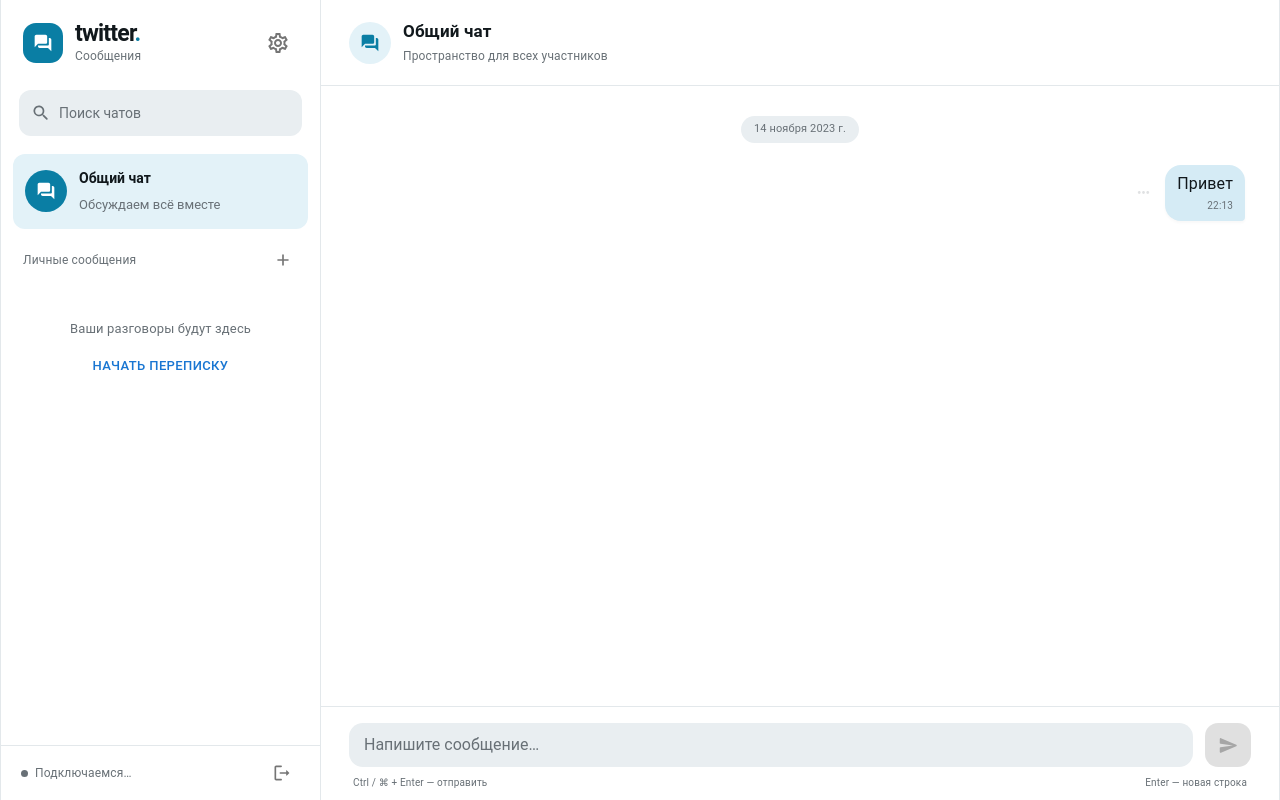
Scenario: deletes a private chat only after confirming in its menu
Expected: the text "Привет" is shown, [1177,172,1233,196]
Click the button named "Новый чат" at (283, 260), box [268,244,298,274]
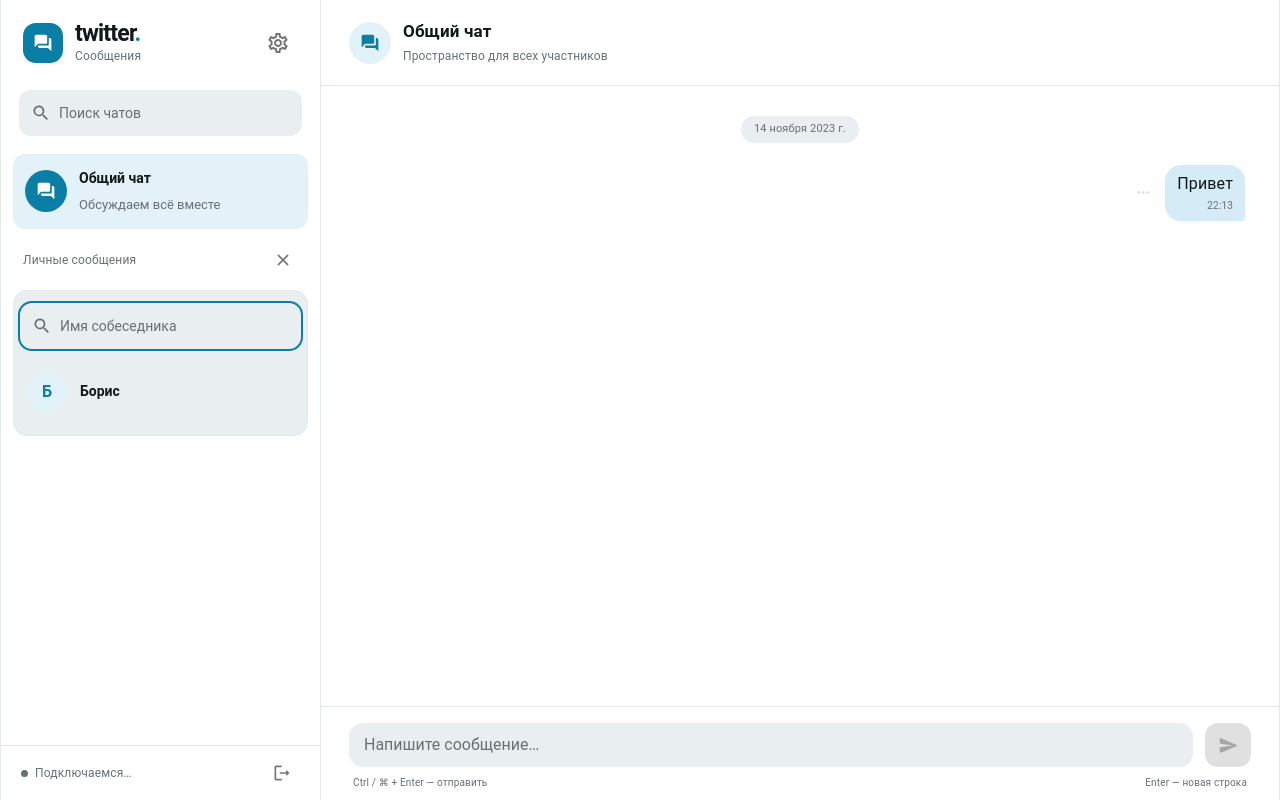
Click the button "Б Борис" at (47, 392), box [14,356,307,426]
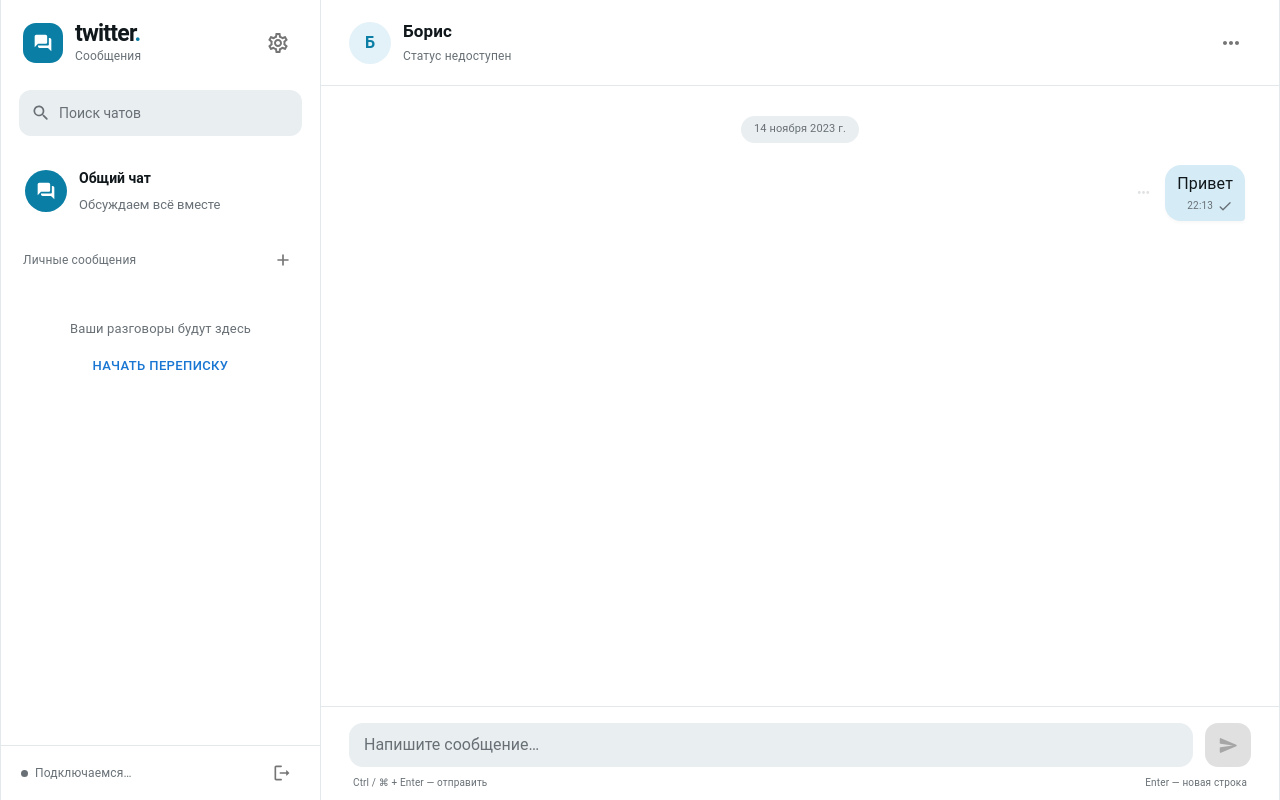
Result: the heading "Борис" is shown at [403,21,452,41]
Click the button named "Действия с чатом" at (1231, 42), box [1211,22,1251,62]
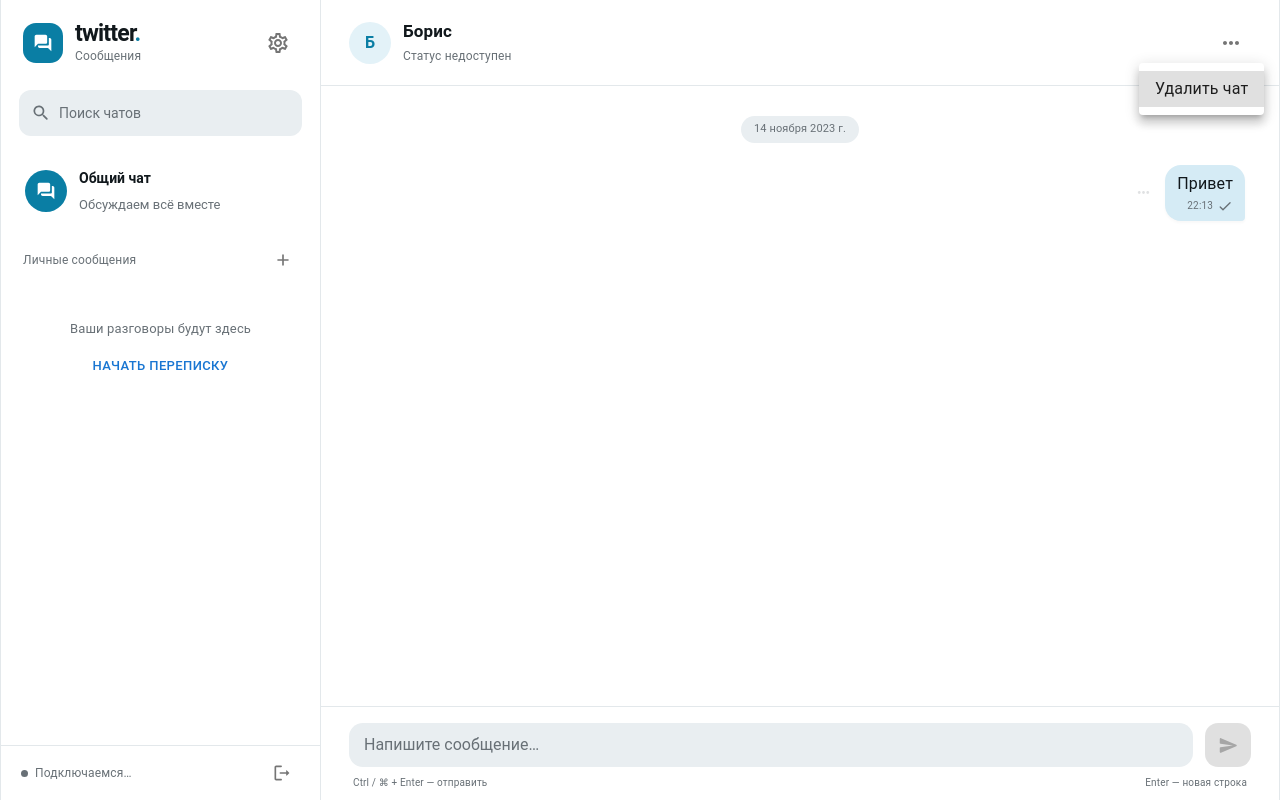
Click the menu item "Удалить чат" at (1202, 89), box [1139,71,1264,107]
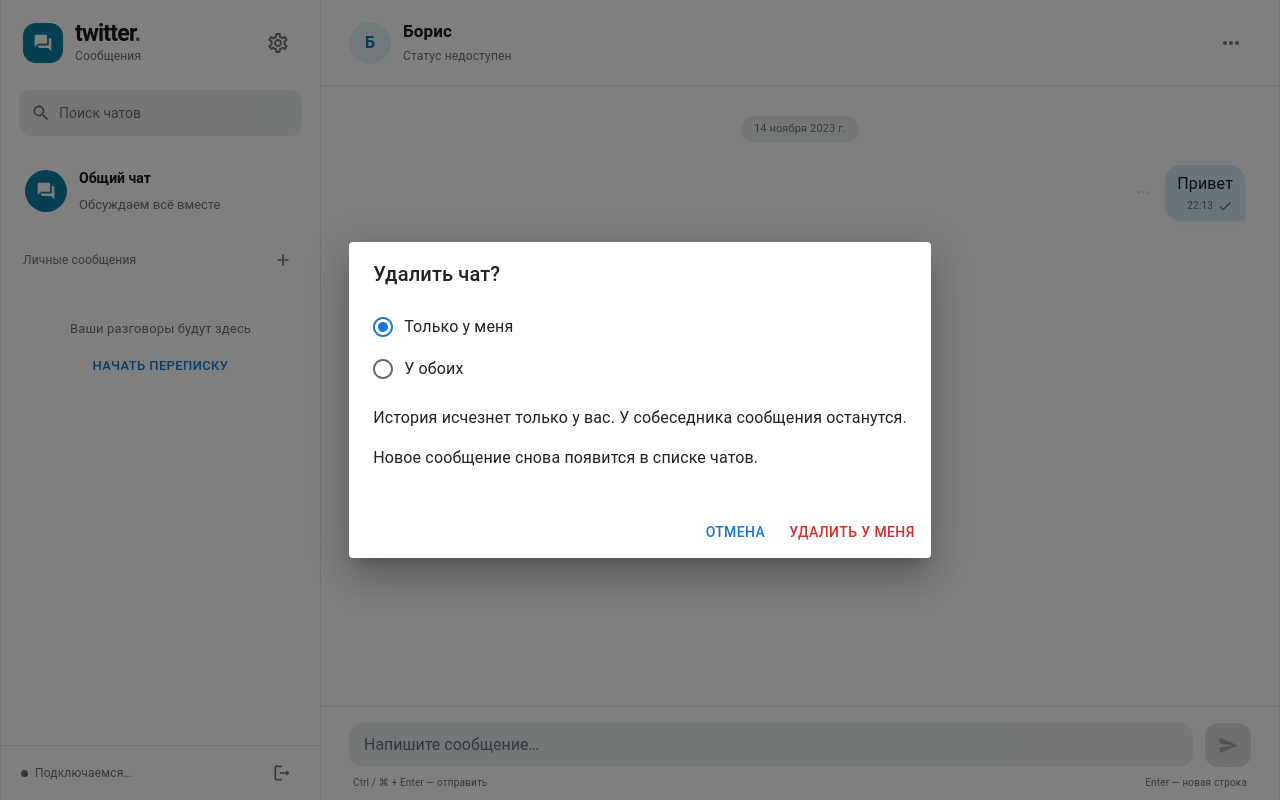
Result: the text "У собеседника сообщения останутся" is shown at [373,408,907,427]
Click the button "Удалить у меня" at (852, 532), box [781,514,923,550]
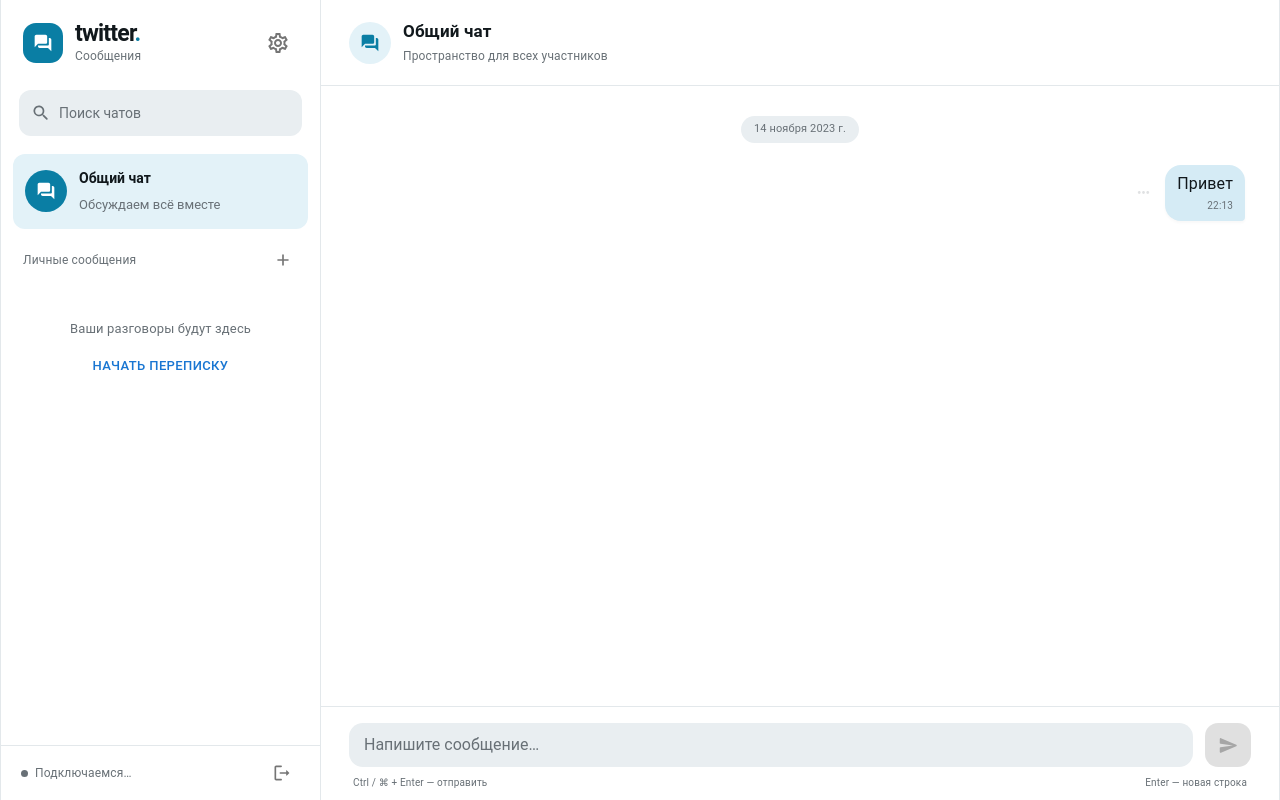
Result: the heading "Общий чат" is shown at [403,21,492,41]
